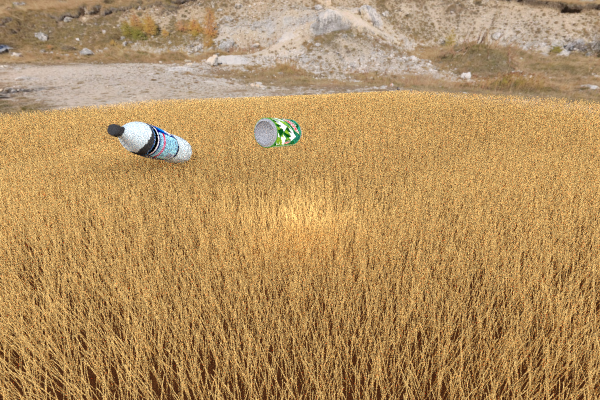Plastic Bottle: (274, 154, 385, 226), (107, 121, 192, 163), (253, 117, 301, 147)
